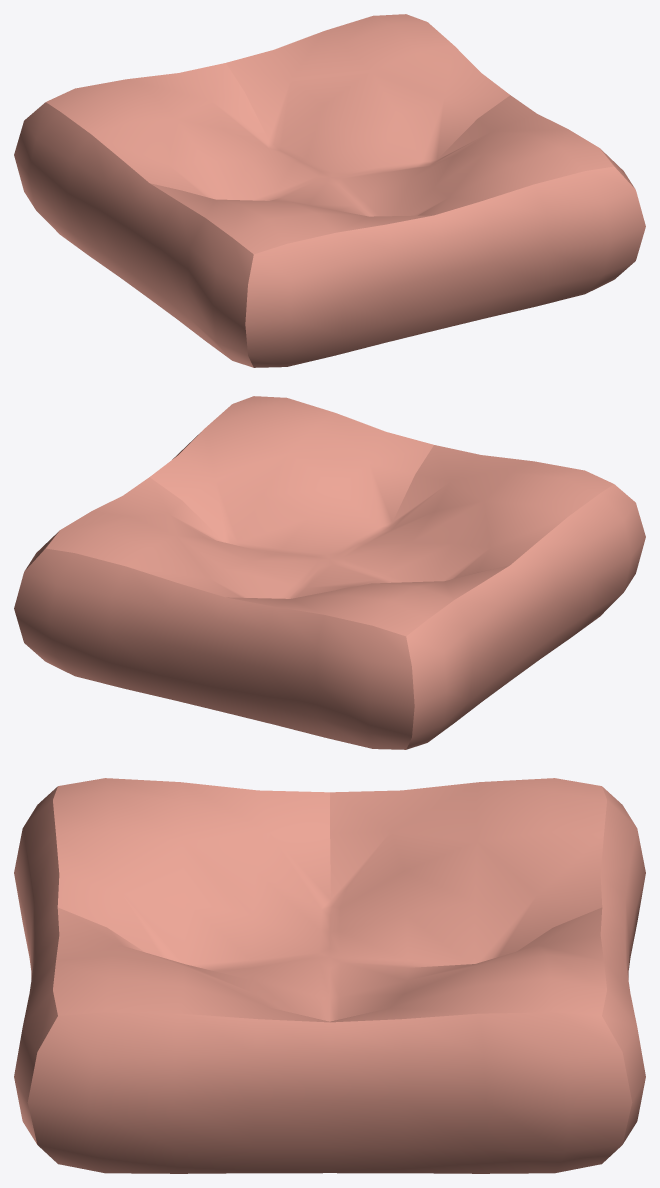
File: pillow.fbx
3 views of the same model, one above another, from view 1: azimuth 30°, elevation 25°; view 2: azimuth 150°, elevation 25°; view 3: azimuth 270°, elevation 25° (orthographic). The views are drawn at different scales.
Visible parts, largest first — view 1: Cube.002; view 2: Cube.002; view 3: Cube.002.
Part boxes in pixels (left/top/right/bottom): Cube.002: left=14, top=14, right=645, bottom=367; Cube.002: left=14, top=396, right=645, bottom=749; Cube.002: left=14, top=778, right=645, bottom=1173.
Size of the model in its own units: 212 by 69.77 by 212.
